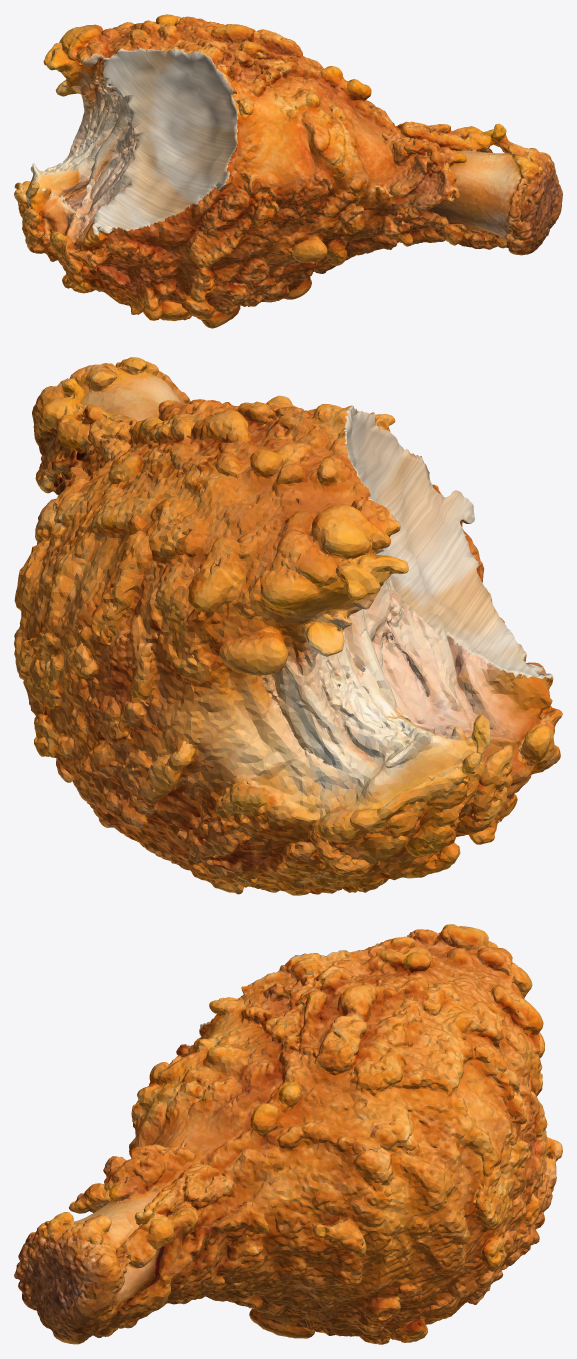
File: crispy-chicken-1.glb
3 renders of one model, top to bottom at view 1: azimuth 30°, elevation 25°; view 2: azimuth 150°, elevation 25°; view 3: azimuth 270°, elevation 25°, orthographic. The views are drawn at different scales.
Parts seen in each view (by area): view 1: Lux3D_outer_surface, Local_closed_bite_surface; view 2: Lux3D_outer_surface, Local_closed_bite_surface; view 3: Lux3D_outer_surface.
Part boxes in pixels (x1,y1,x2,y2): Lux3D_outer_surface: (14, 14, 562, 328); Local_closed_bite_surface: (82, 48, 238, 235); Lux3D_outer_surface: (14, 357, 562, 895); Local_closed_bite_surface: (342, 405, 553, 679); Lux3D_outer_surface: (14, 924, 562, 1344).
Bounding box in the file's own units: 0.1308 × 0.0865 × 0.1176.
Materials: 2 (2 with a texture image).
